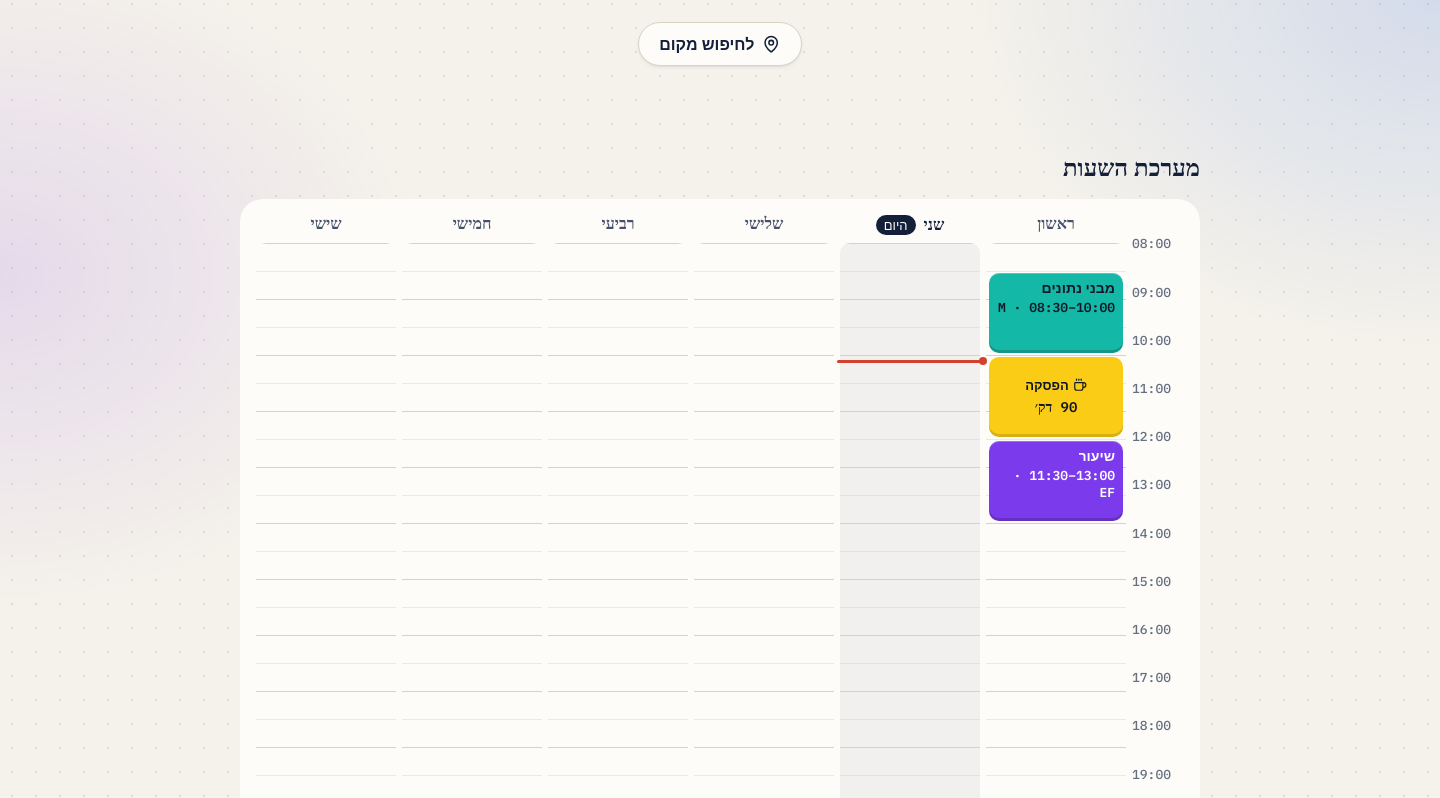
Test case: the timetable › a break on another day shows its own places, and leads to that day in "between classes"
(page scrolled)
Click the button with aria-label "הפסקה של 90 דקות": (1056, 397) 989,357 -> 1123,437
(page scrolled)
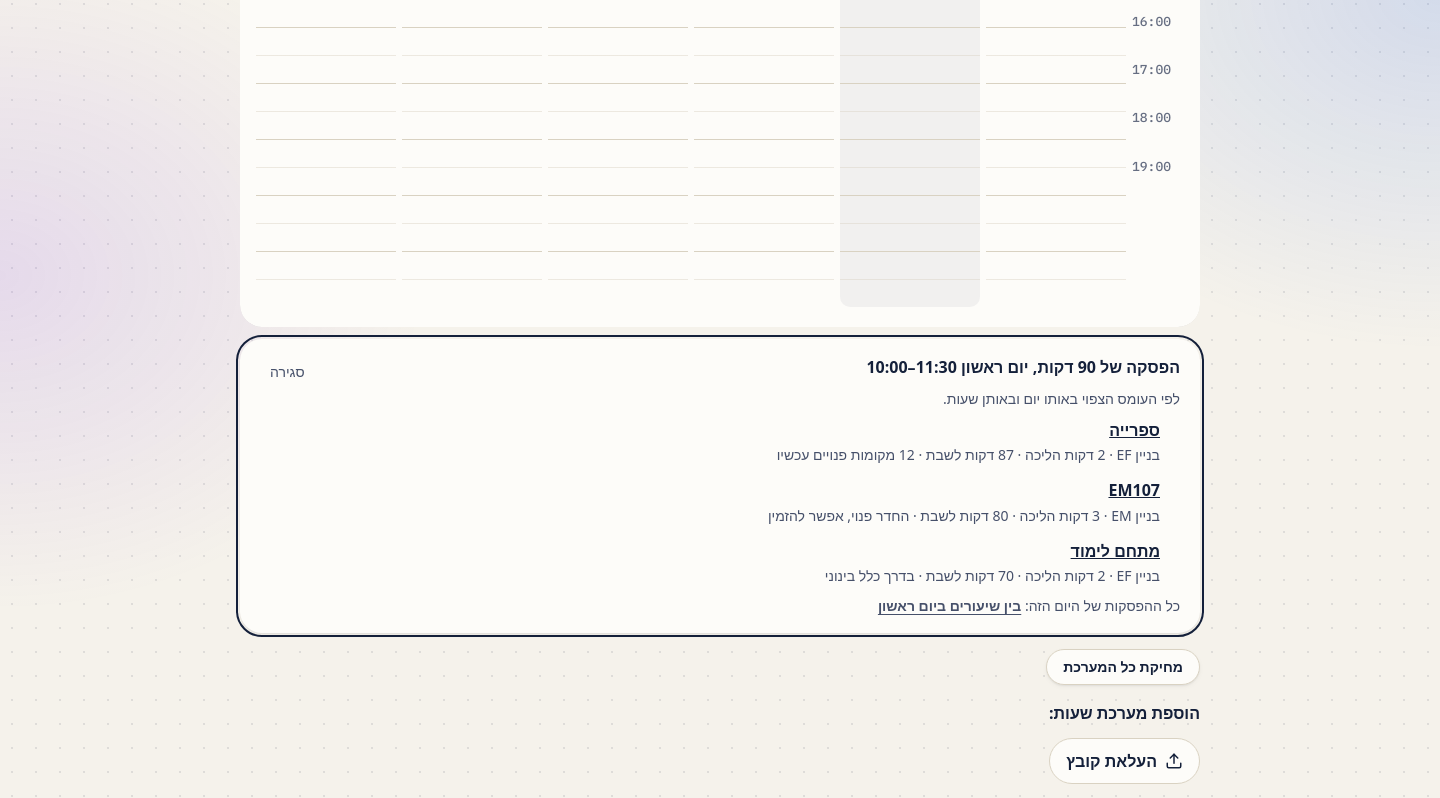
Check: the link "ספרייה" is shown, box 1109,419 -> 1160,441
Click the button "בין שיעורים ביום ראשון": (950, 606) 878,595 -> 1021,617
(page scrolled)
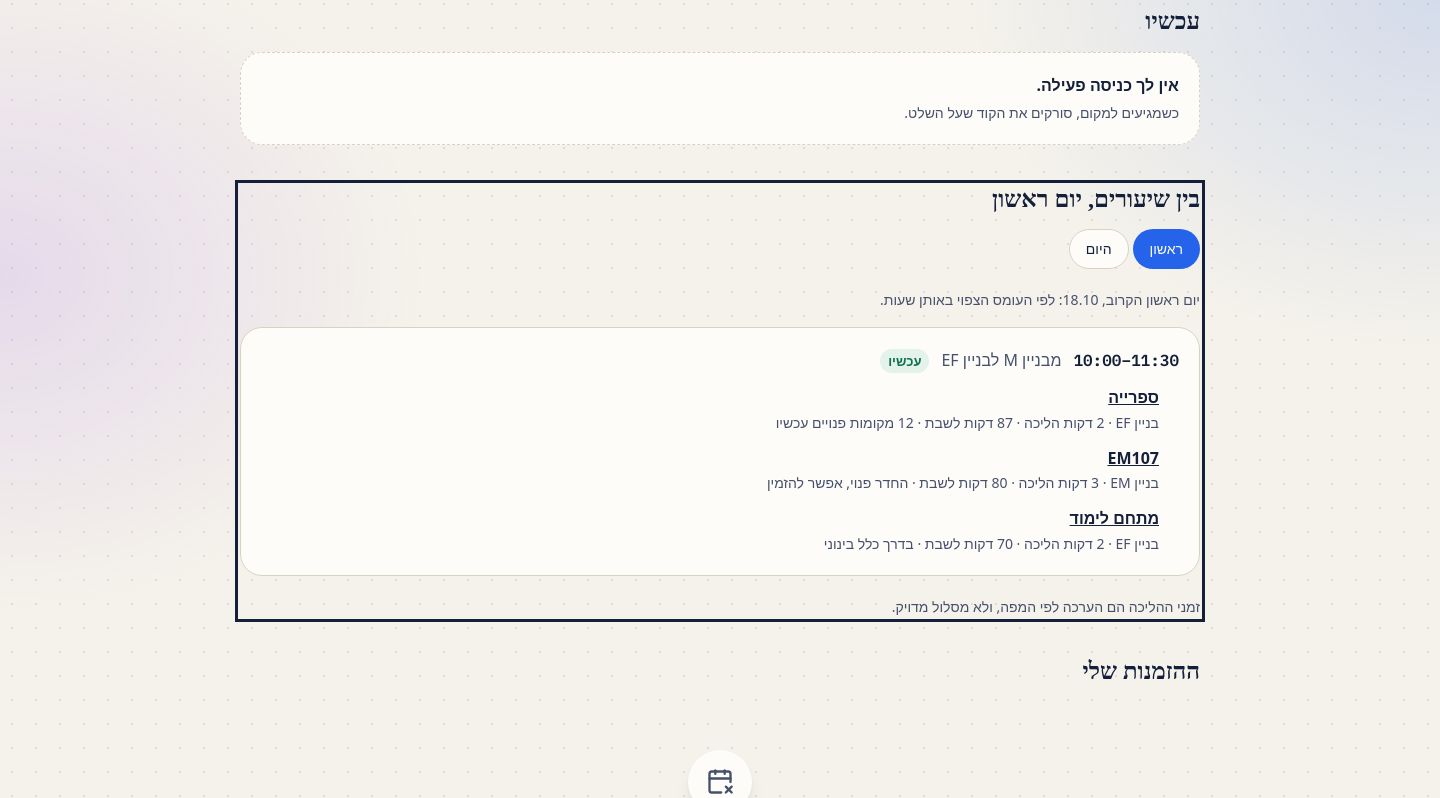
Check: the button "ראשון" is shown, box 1132,229 -> 1200,269
Check: the link "ספרייה" is shown, box 1108,386 -> 1159,408
